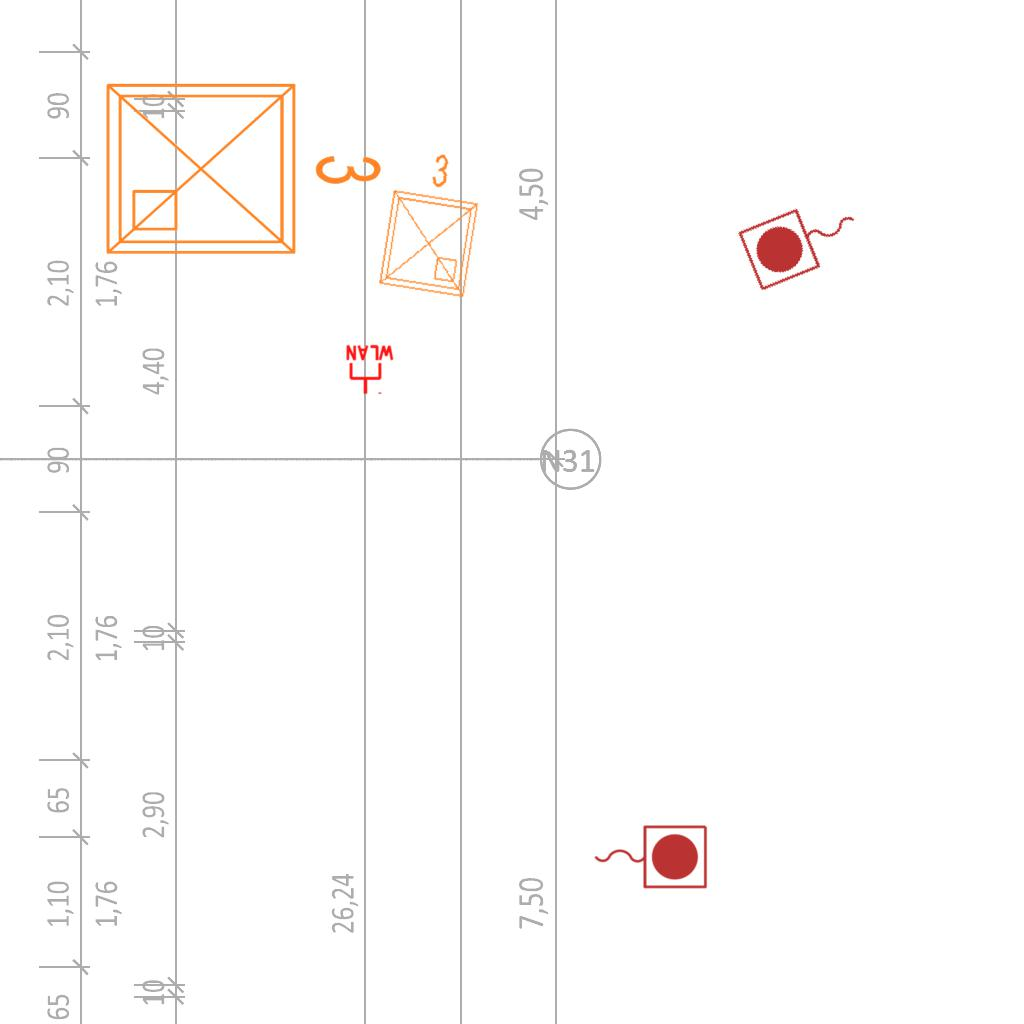Einbaudownlights_LED_Konferenzraeume: (92, 61, 392, 269), (366, 140, 494, 306)
WLAN: (344, 344, 396, 396)
Zugtaster: (732, 184, 874, 298), (589, 820, 711, 892)
